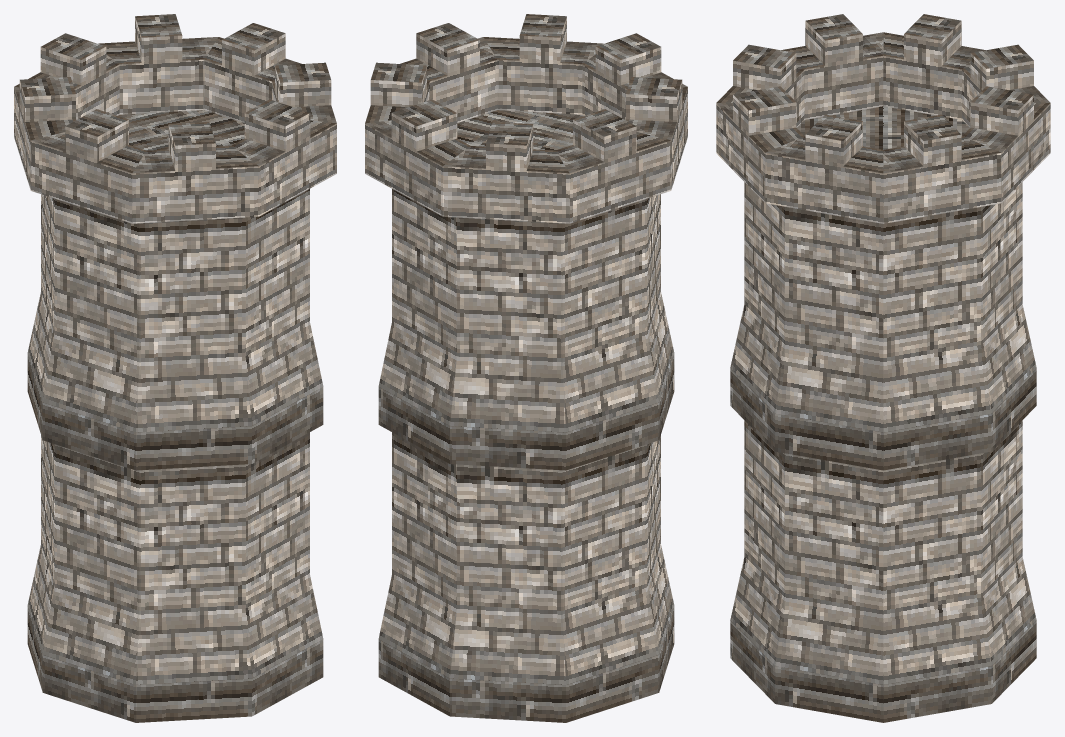
Rendered from watch_tower.glb.
The picture shows the model from 3 angles, left to right: view 1: azimuth 30°, elevation 25°; view 2: azimuth 150°, elevation 25°; view 3: azimuth 270°, elevation 25°; orthographic projection.
Visible parts, largest first — view 1: Tower_Base_2, Tower_Base_1, Tower_Top; view 2: Tower_Base_2, Tower_Base_1, Tower_Top; view 3: Tower_Base_2, Tower_Base_1, Tower_Top.
Boxes of the visible parts, x1,y1,x2,y2 form: Tower_Base_2: (27, 110, 323, 470); Tower_Base_1: (27, 432, 323, 722); Tower_Top: (14, 14, 336, 223); Tower_Base_2: (378, 110, 674, 470); Tower_Base_1: (378, 432, 674, 722); Tower_Top: (365, 14, 687, 223); Tower_Base_2: (730, 106, 1036, 470); Tower_Base_1: (730, 420, 1036, 722); Tower_Top: (716, 14, 1050, 223).
Size of what is drawn, in the model's own units: 2.4 by 4.6 by 2.4.
Materials: 6 (6 with a texture image).
